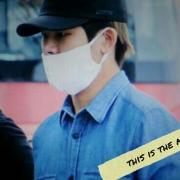WRONG: (39, 25, 106, 92)
